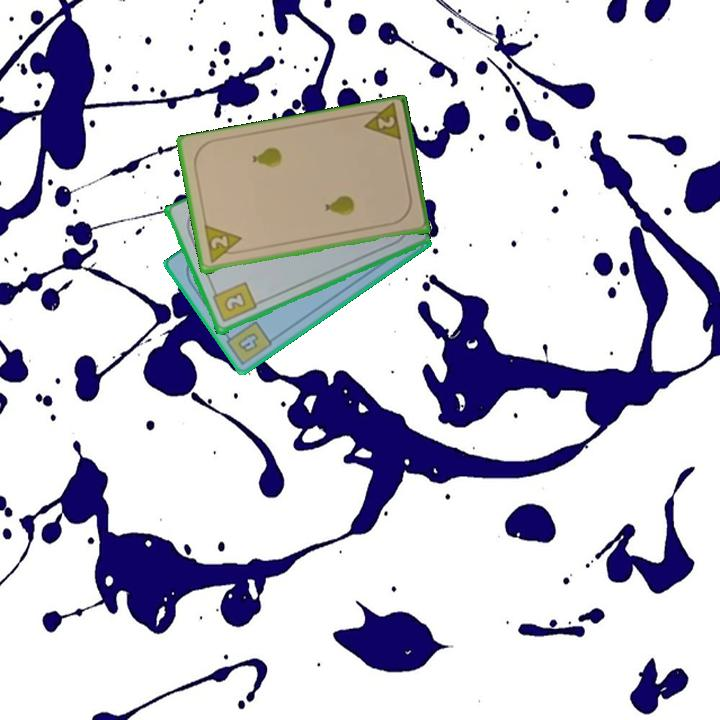2b: (208, 279, 259, 325)
2p: (358, 102, 404, 146), (201, 223, 246, 266)
4b: (220, 317, 275, 368)
